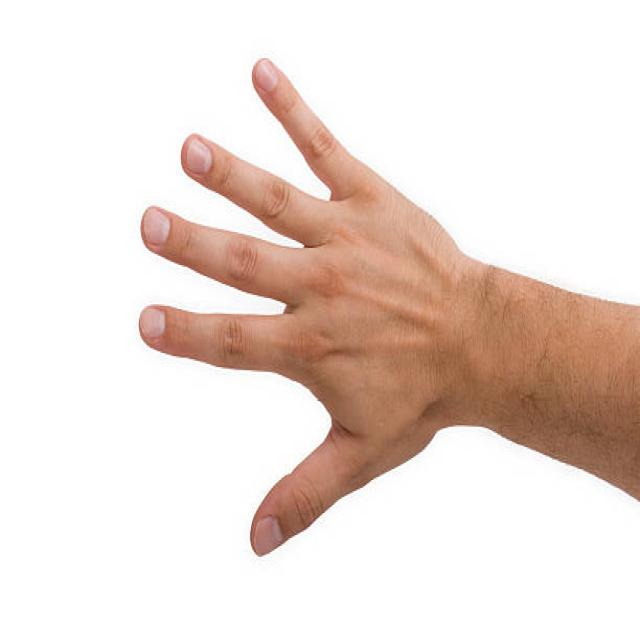Nail: (254, 518, 284, 557), (143, 209, 170, 245), (186, 138, 212, 173), (140, 307, 165, 339), (255, 58, 278, 90)
